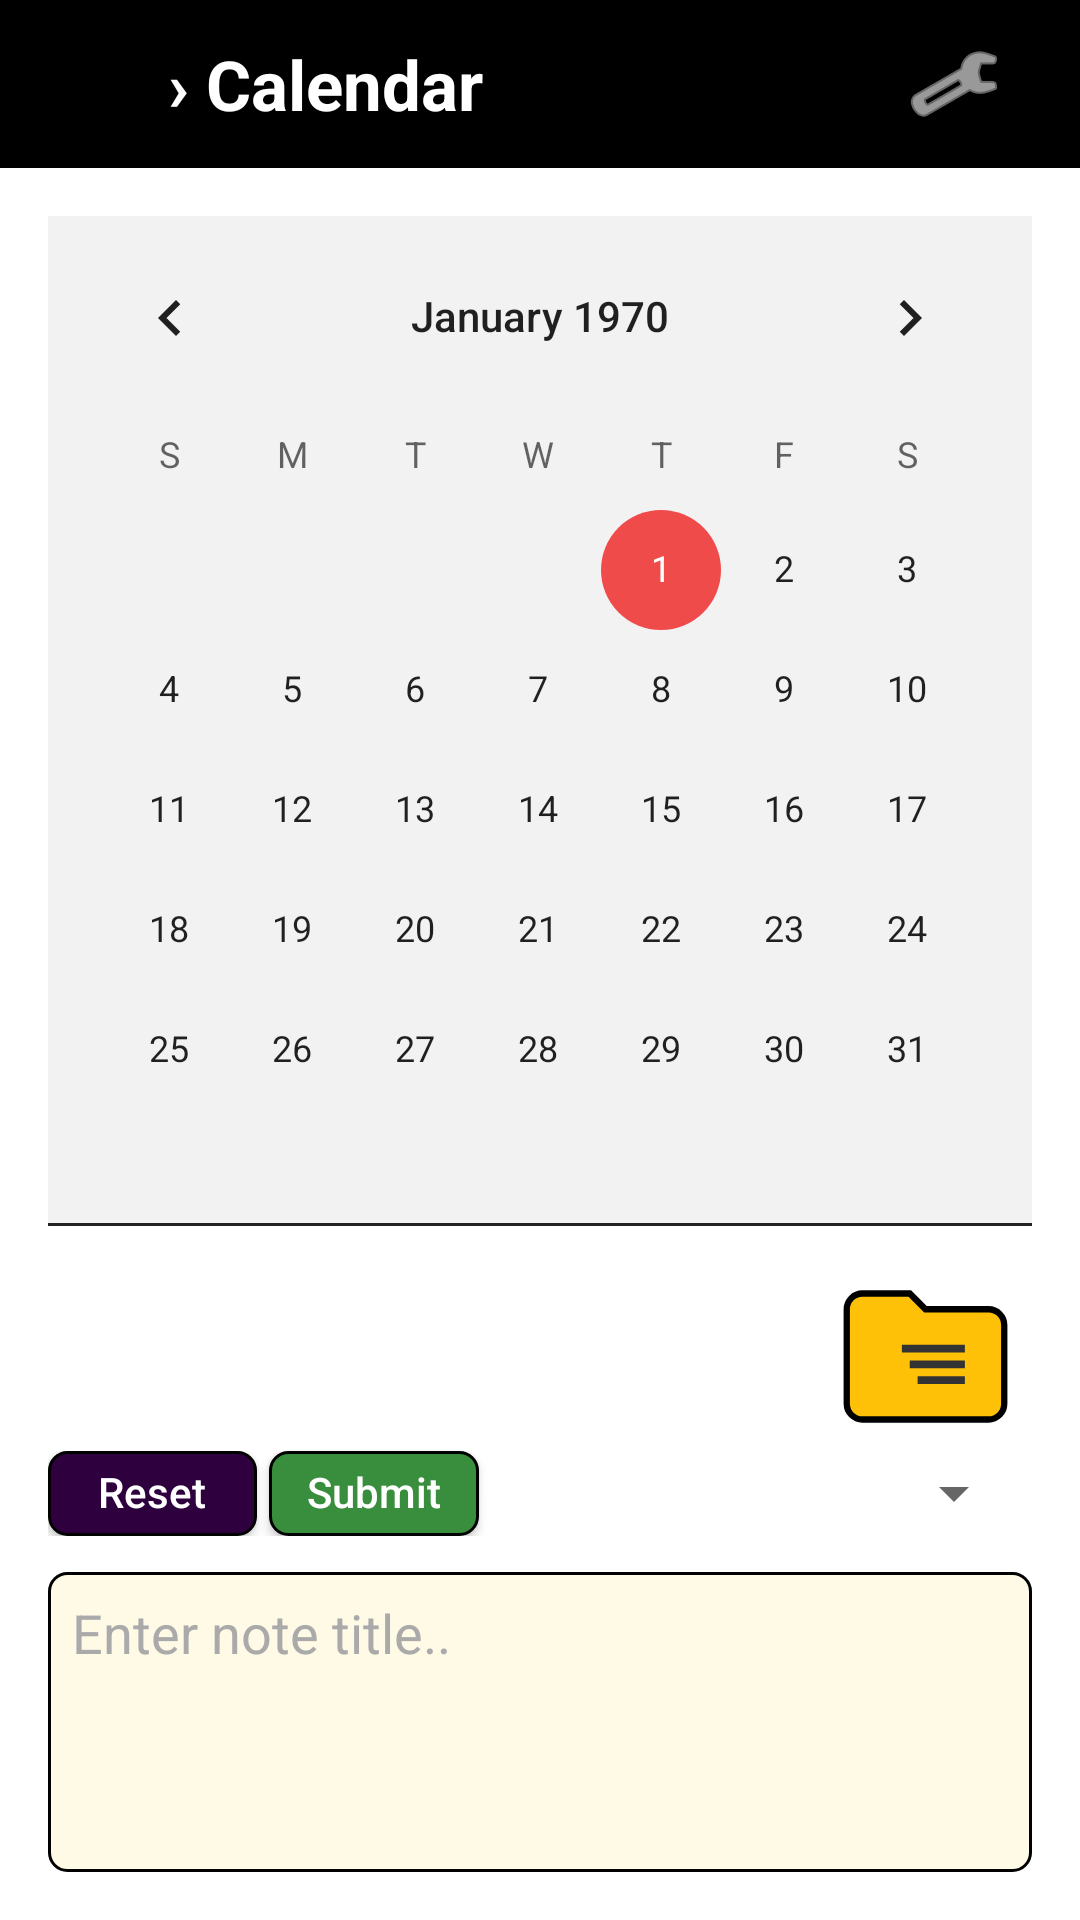

Icons on this 1080x1920 Android screen, each with its box as (x1=x1, y1=y1, x2=x2, y2=y2):
Browse: (x1=843, y1=1290, x2=1008, y2=1423)
